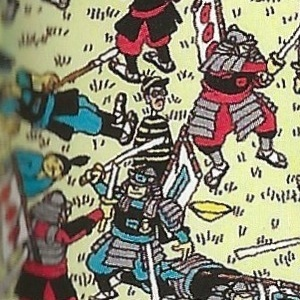Charlie: (22, 103, 50, 196)
